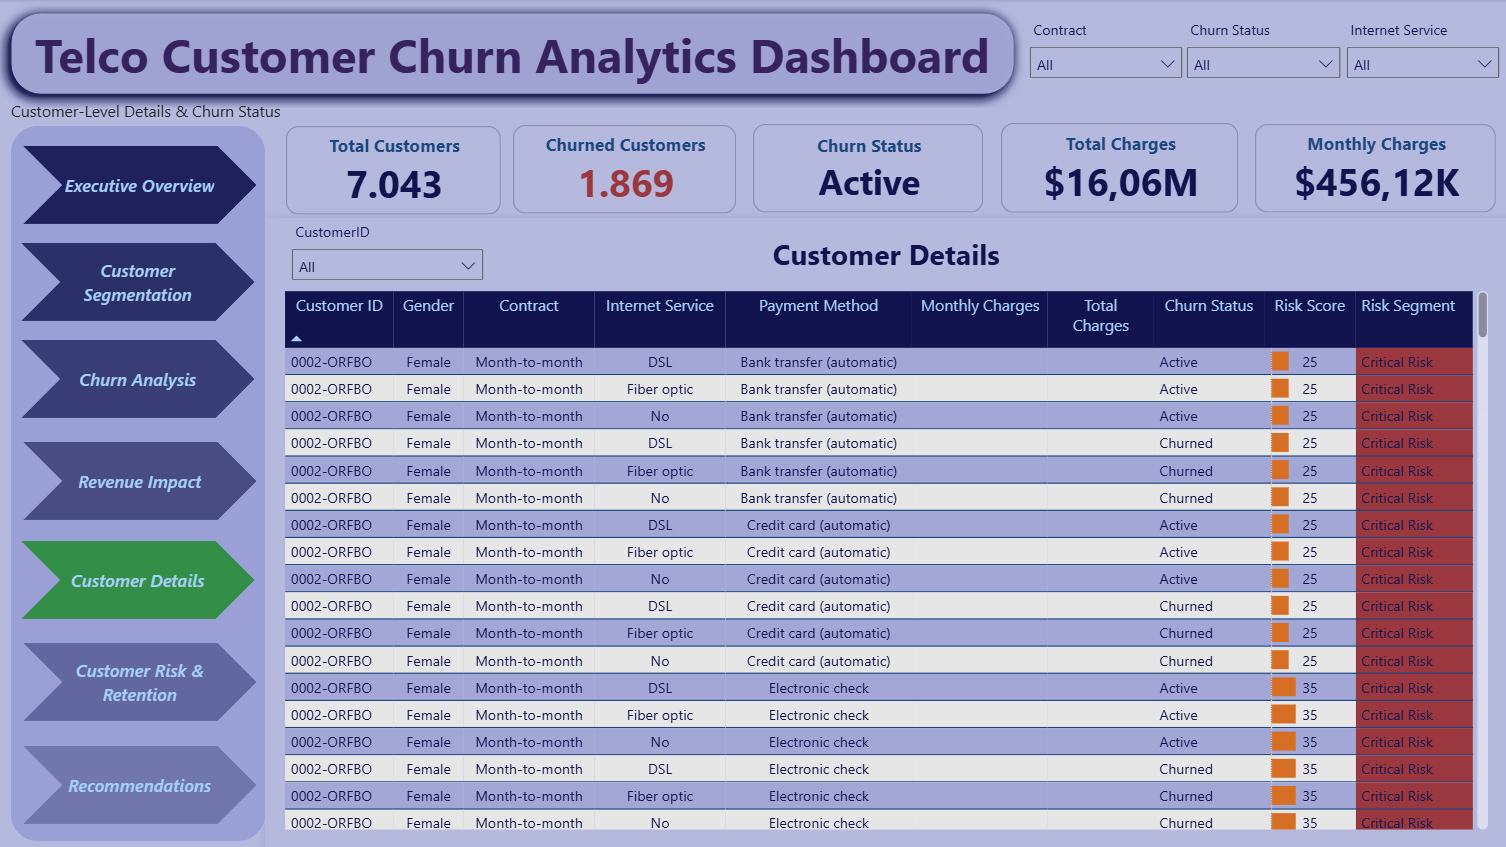

Layout of this report page (visuals, bound fields, positions):
{"tool":"powerbi","page":{"name":"Customer Details","canvas":[1280,720],"ordinal":4},"visuals":[{"type":"shape","title":"Telco Customer Churn Analytics Dashboard","box":[0,0,873.4,92.4],"z":0},{"type":"bookmarkNavigator","box":[585.5,46.3,14.5,4.3],"z":1000},{"type":"shape","box":[11.9,107.6,215.2,605.6],"z":1000,"group":"g1"},{"type":"slicer","title":"Payment Method","fields":{"Values":["dim DimContract.Contract"]},"box":[869.7,18.1,138.8,63.8],"z":2000},{"type":"shape","box":[20.2,206.9,197.9,66.1],"z":2000,"group":"g3"},{"type":"tableEx","title":"Customer Details","fields":{"Values":["dim DimCustomer.CustomerID","dim DimCustomer.Gender","dim DimContract.Contract","dim DimService.InternetService","dim DimPayment.PaymentMethod","Sum(fact FactCustomerChurn.MonthlyCharges)","Sum(fact FactCustomerChurn.TotalCharges)","fact FactCustomerChurn.Churn Status","_Measures.Customer Risk Score","Risk Category.Risk Segment"]},"box":[226.7,185.3,1052.4,534.4],"z":3000},{"type":"cardVisual","fields":{"Data":["_Measures.Churned Customers"]},"box":[437.1,106.7,189.6,75.1],"z":4000},{"type":"shape","box":[20.2,289.1,197.9,66.1],"z":4000,"group":"g3"},{"type":"cardVisual","fields":{"Data":["_Measures.Total Customers"]},"box":[244.8,107.6,182.5,75.1],"z":5000},{"type":"cardVisual","fields":{"Data":["Min(fact FactCustomerChurn.Churn Status)"]},"box":[640.4,105.9,195.9,75.1],"z":6000},{"type":"shape","box":[21.8,375.7,197.9,66.1],"z":6000,"group":"g3"},{"type":"cardVisual","fields":{"Data":["Sum(fact FactCustomerChurn.TotalCharges)"]},"box":[850.4,105,201.6,76.2],"z":7000},{"type":"cardVisual","fields":{"Data":["Sum(fact FactCustomerChurn.MonthlyCharges)"]},"box":[1065.6,105.9,204.8,75.1],"z":8000},{"type":"textbox","box":[11.9,84.7,242.9,22.9],"z":9000},{"type":"slicer","title":"Payment Method","fields":{"Values":["fact FactCustomerChurn.Churn Status"]},"box":[1003.3,18.1,139.6,63.8],"z":10000},{"type":"shape","box":[20.2,459.4,197.9,66.1],"z":10000,"group":"g3"},{"type":"slicer","title":"Payment Method","fields":{"Values":["dim DimService.InternetService"]},"box":[1138.6,18.1,138.8,62.1],"z":11000},{"type":"slicer","title":"Payment Method","fields":{"Values":["dim DimCustomer.CustomerID"]},"box":[244.8,188.8,171.5,53.4],"z":12000},{"type":"shape","box":[21.8,632.6,197.9,66.1],"z":12000,"group":"g3"},{"type":"group","id":"g1","title":"Group 3","box":[11.9,107.6,215.2,605.6],"z":13000},{"type":"group","id":"g2","title":"Group 2","box":[20.2,124.7,199.5,574],"z":16001,"group":"g1"},{"type":"group","id":"g3","title":"Group 1","box":[20.2,124.7,199.5,574],"z":16002,"group":"g2"},{"type":"shape","box":[21.8,546,197.9,66.1],"z":19000,"group":"g3"},{"type":"shape","box":[21.8,124.7,197.9,66.1],"z":19500,"group":"g3"}]}

Visuals, with their boxes in screenshot pixels (x1, y1, x2, y2), scaled from the page's 1280x720 canvas onto the 1506x847 screenshot:
"Telco Customer Churn Analytics Dashboard" shape: <box>0,0,1028,109</box>
bookmarkNavigator: <box>689,54,706,60</box>
shape: <box>14,127,267,839</box>
"Payment Method" slicer: <box>1023,21,1187,96</box>
shape: <box>24,243,257,321</box>
"Customer Details" tableEx: <box>267,218,1505,846</box>
cardVisual - _Measures.Churned Customers: <box>514,126,737,214</box>
shape: <box>24,340,257,418</box>
cardVisual - _Measures.Total Customers: <box>288,127,503,215</box>
cardVisual - Min(fact FactCustomerChurn.Churn Status): <box>753,125,984,213</box>
shape: <box>26,442,258,520</box>
cardVisual - Sum(fact FactCustomerChurn.TotalCharges): <box>1001,124,1238,213</box>
cardVisual - Sum(fact FactCustomerChurn.MonthlyCharges): <box>1254,125,1495,213</box>
textbox: <box>14,100,300,127</box>
"Payment Method" slicer: <box>1180,21,1345,96</box>
shape: <box>24,540,257,618</box>
"Payment Method" slicer: <box>1340,21,1503,94</box>
"Payment Method" slicer: <box>288,222,490,285</box>
shape: <box>26,744,258,822</box>
"Group 3" group: <box>14,127,267,839</box>
"Group 2" group: <box>24,147,258,822</box>
"Group 1" group: <box>24,147,258,822</box>
shape: <box>26,642,258,720</box>
shape: <box>26,147,258,224</box>
